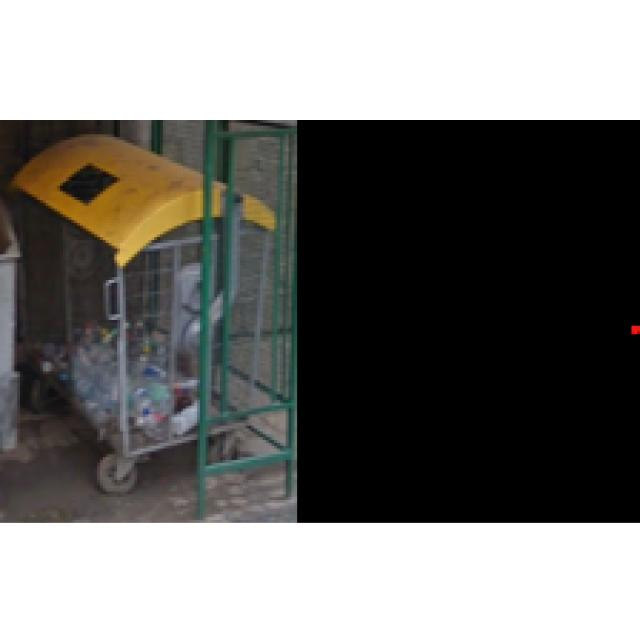plastic trash bin: (14, 140, 210, 523)
